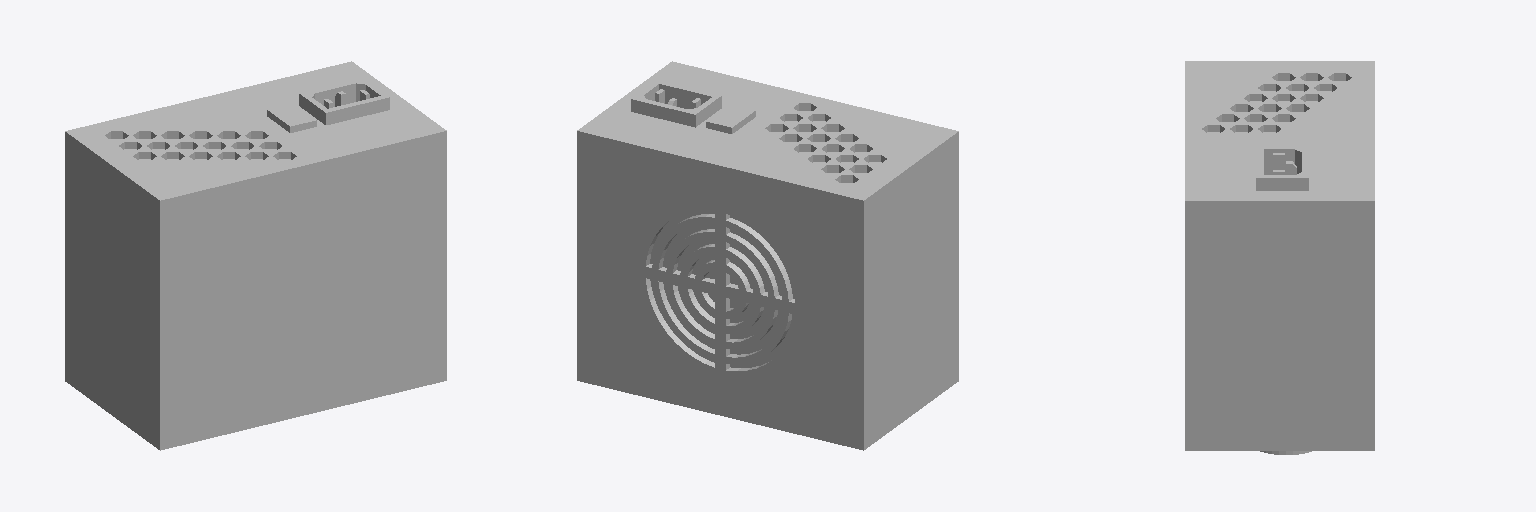
File: powersupply.obj
3 renders of one model, left to right at view 1: azimuth 30°, elevation 25°; view 2: azimuth 150°, elevation 25°; view 3: azimuth 270°, elevation 25°, orthographic.
Visible parts, largest first — view 1: Power_Supply; view 2: Power_Supply; view 3: Power_Supply.
Boxes of the visible parts, x1=… form: Power_Supply: x1=65, y1=61, x2=446, y2=450; Power_Supply: x1=577, y1=61, x2=958, y2=450; Power_Supply: x1=1185, y1=61, x2=1374, y2=454.
Size of the model in its own units: 150 by 138 by 86.11.